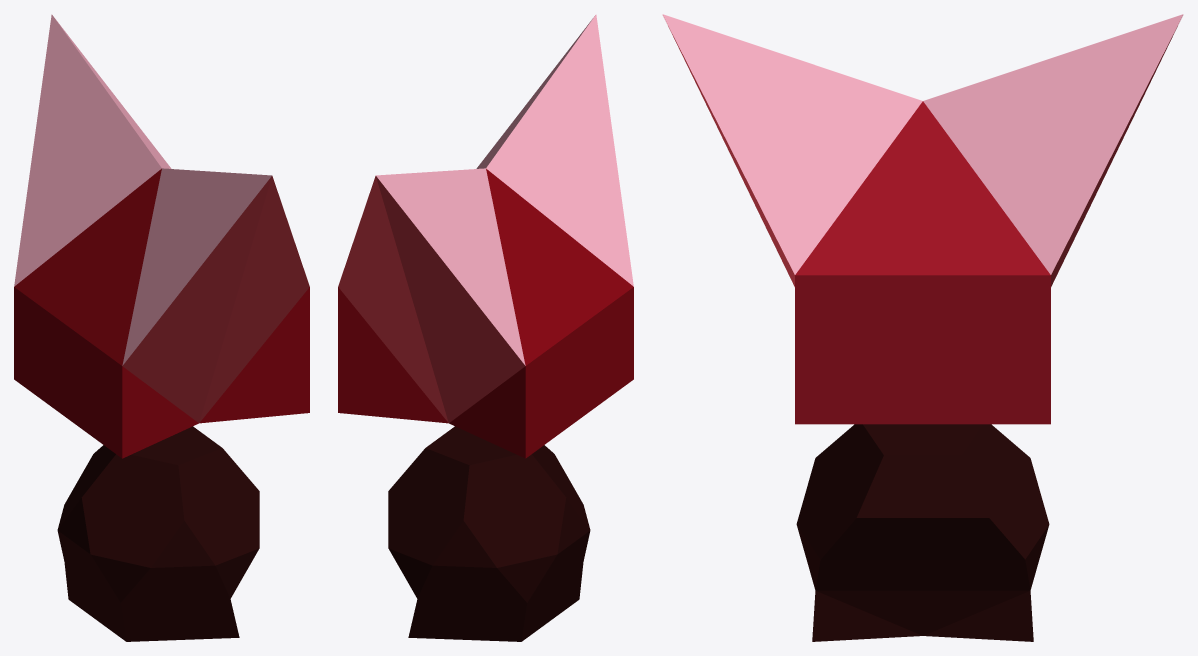
The model's file is imp.glb.
3 renders of one model, left to right at view 1: azimuth 30°, elevation 25°; view 2: azimuth 150°, elevation 25°; view 3: azimuth 270°, elevation 25°, orthographic. The views are drawn at different scales.
Parts seen in each view (by area): view 1: imp; view 2: imp; view 3: imp.
Part boxes in pixels (x1,y1,x2,y2): imp: [14, 14, 309, 641]; imp: [338, 14, 633, 641]; imp: [662, 14, 1183, 641].
Bounding box in the file's own units: 0.7591 × 2 × 1.55.
Materials: 1 (1 with a texture image).
